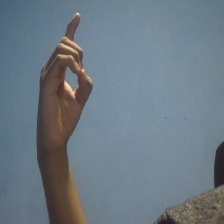D: (29, 11, 95, 152)
